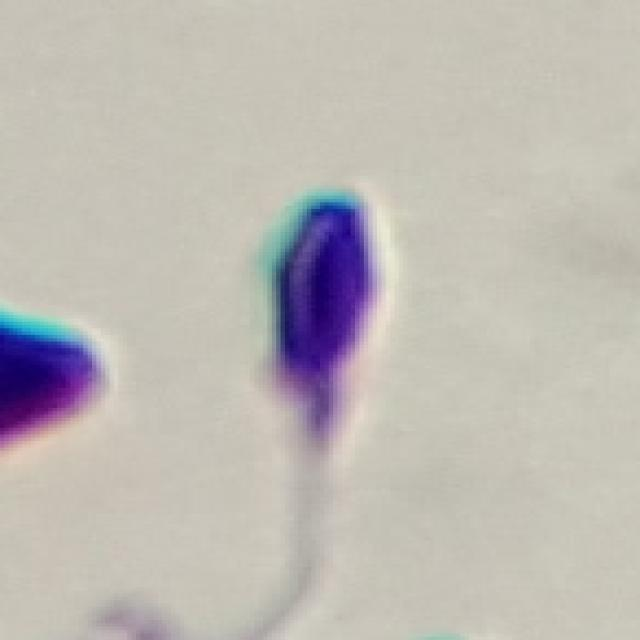abnormal sperm: (258, 186, 388, 552)
